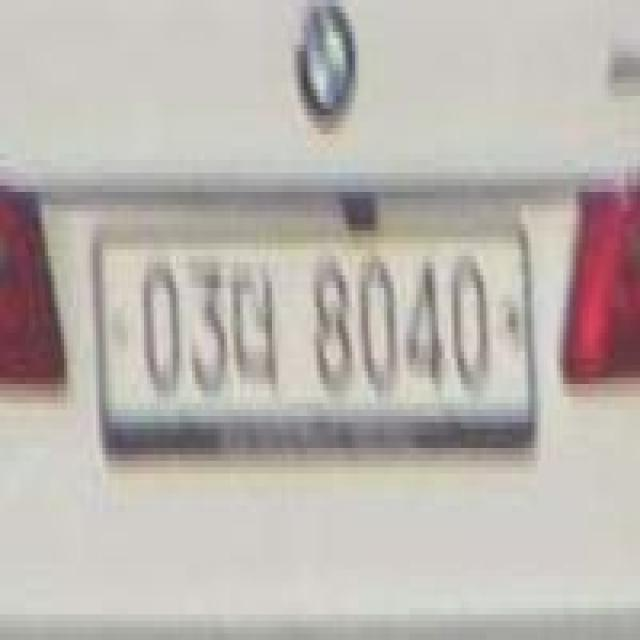illegal_plate: (89, 215, 538, 478)
